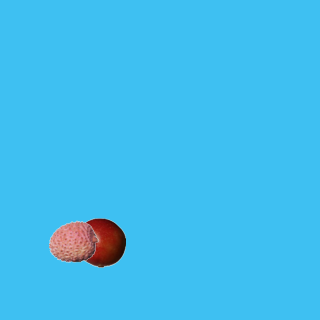Apple Braeburn: (75, 217, 125, 267)
Lychee: (48, 216, 98, 266)
